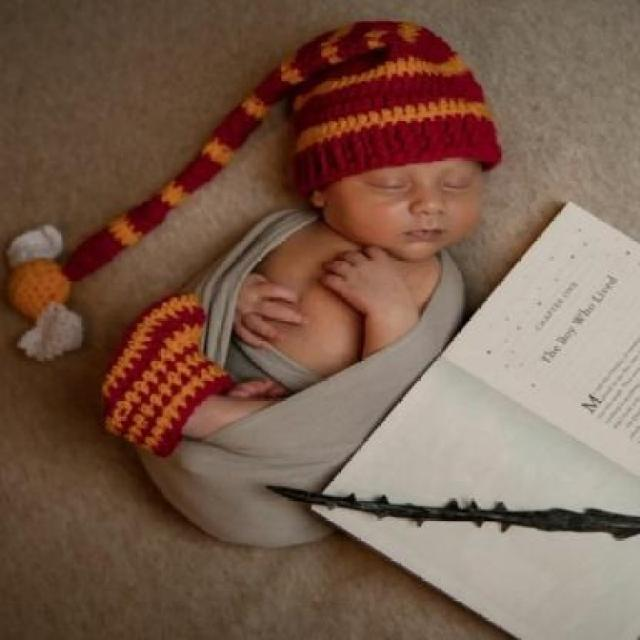baby: (96, 16, 502, 542)
